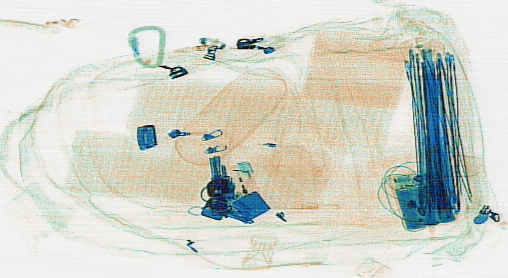lighter: (227, 157, 265, 216)
powerbank: (387, 167, 456, 230)
